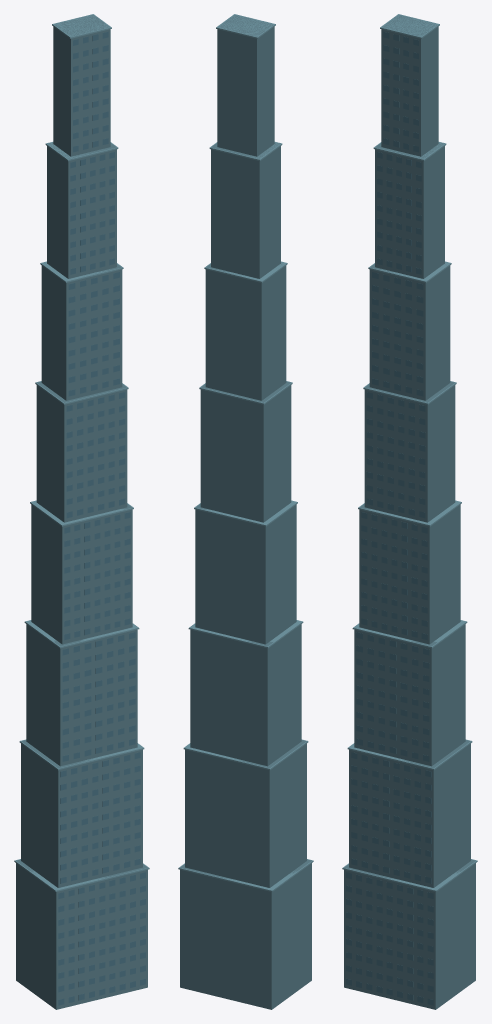
The model's file is source.glb.
3 views of the same model, side by side, from view 1: azimuth 30°, elevation 25°; view 2: azimuth 150°, elevation 25°; view 3: azimuth 330°, elevation 25° (orthographic).
Visible parts, largest first — view 1: worldgen; view 2: worldgen; view 3: worldgen.
Part boxes in pixels (x1,y1,x2,y2): worldgen: (14,14,149,1009); worldgen: (178,14,313,1009); worldgen: (342,14,477,1009).
Size of the model in its own units: 52 by 508 by 39.76.
